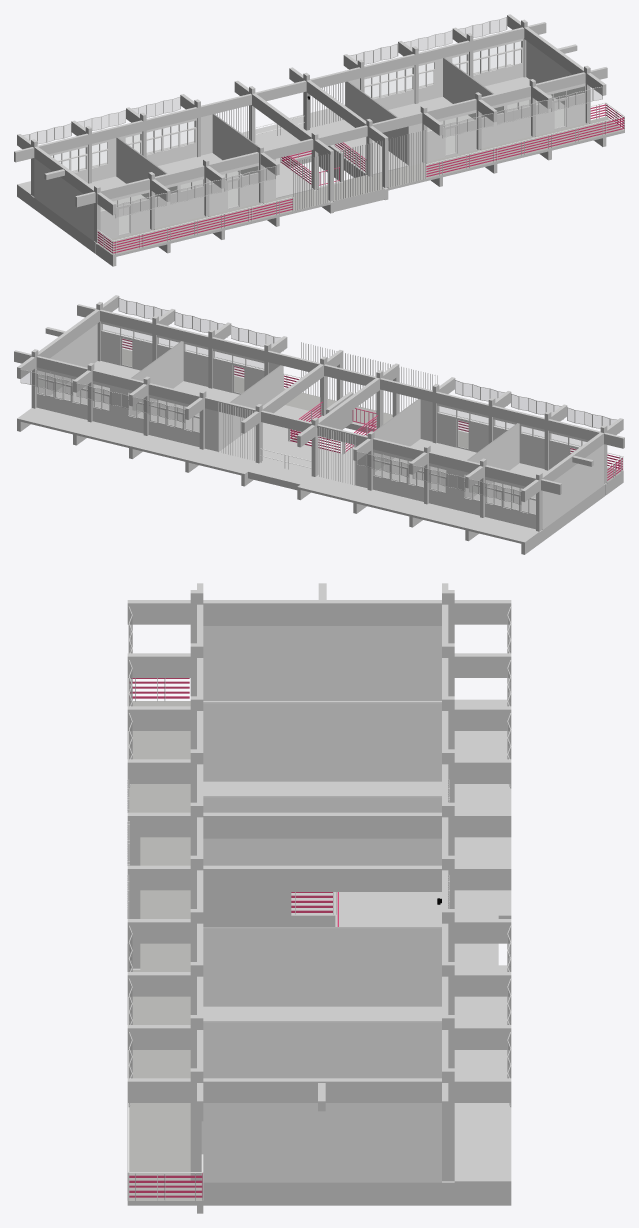
3 renders of one model, top to bottom at view 1: azimuth 30°, elevation 25°; view 2: azimuth 150°, elevation 25°; view 3: azimuth 270°, elevation 25°, orthographic. The views are drawn at different scales.
Visible parts, largest first — view 1: EN1040299, EN1040201, EN1040202, EN1040204, EN1040203; view 2: EN1040299, EN1040201, EN1040204, EN1040202, EN1040203; view 3: EN1040299, EN1040201, EN1040203, EN1040204, EN1040202.
Part boxes in pixels (x1=…): EN1040299: x1=14, y1=14, x2=624, y2=266; EN1040201: x1=31, y1=126, x2=179, y2=253; EN1040202: x1=116, y1=99, x2=275, y2=221; EN1040204: x1=443, y1=19, x2=589, y2=138; EN1040203: x1=345, y1=46, x2=506, y2=165; EN1040299: x1=14, y1=295, x2=624, y2=554; EN1040201: x1=454, y1=411, x2=607, y2=542; EN1040204: x1=32, y1=301, x2=183, y2=427; EN1040202: x1=355, y1=384, x2=519, y2=509; EN1040203: x1=118, y1=329, x2=283, y2=451; EN1040299: x1=127, y1=583, x2=511, y2=1213; EN1040201: x1=190, y1=583, x2=454, y2=781; EN1040203: x1=190, y1=907, x2=454, y2=1078; EN1040204: x1=190, y1=1001, x2=454, y2=1205; EN1040202: x1=190, y1=682, x2=454, y2=865.
Size of the model in its own units: 39 by 4.7 by 12.2.
